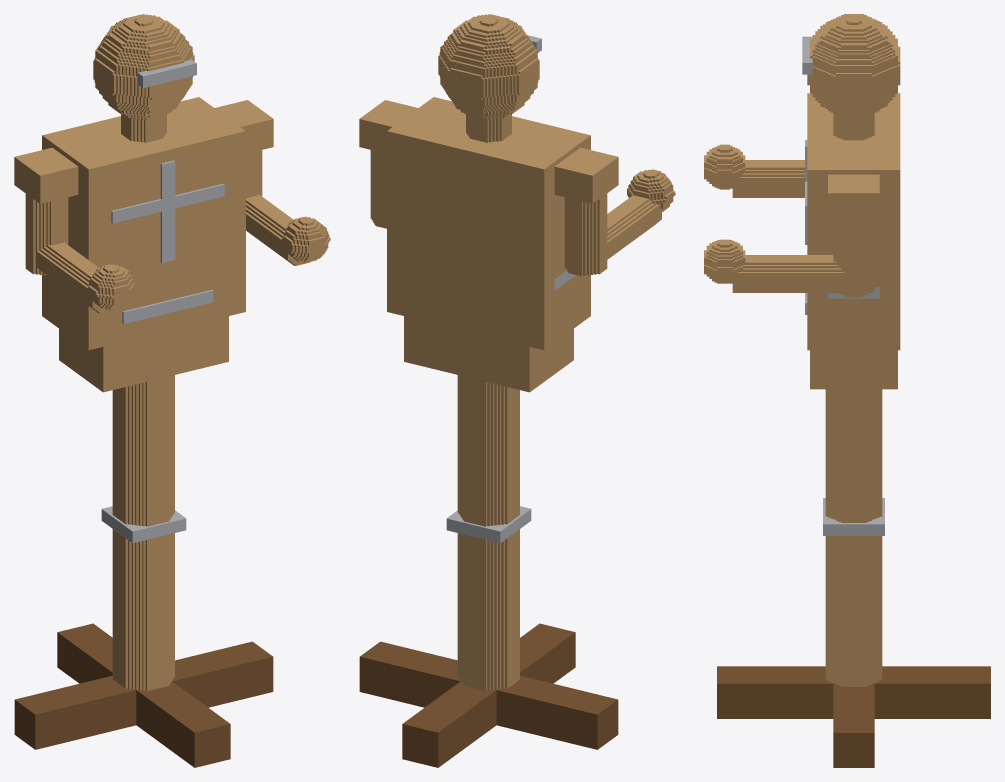
File: training_dummy_light.glb
3 views of the same model, side by side, from view 1: azimuth 30°, elevation 25°; view 2: azimuth 150°, elevation 25°; view 3: azimuth 270°, elevation 25° (orthographic).
Visible parts, largest first — view 1: training_dummy_light:compound; view 2: training_dummy_light:compound; view 3: training_dummy_light:compound.
Boxes of the visible parts, x1,y1,x2,y2 form: training_dummy_light:compound: (14,14,330,767); training_dummy_light:compound: (359,14,675,767); training_dummy_light:compound: (704,14,990,767).
Size of the model in its own units: 0.636 by 1.77 by 0.666.
